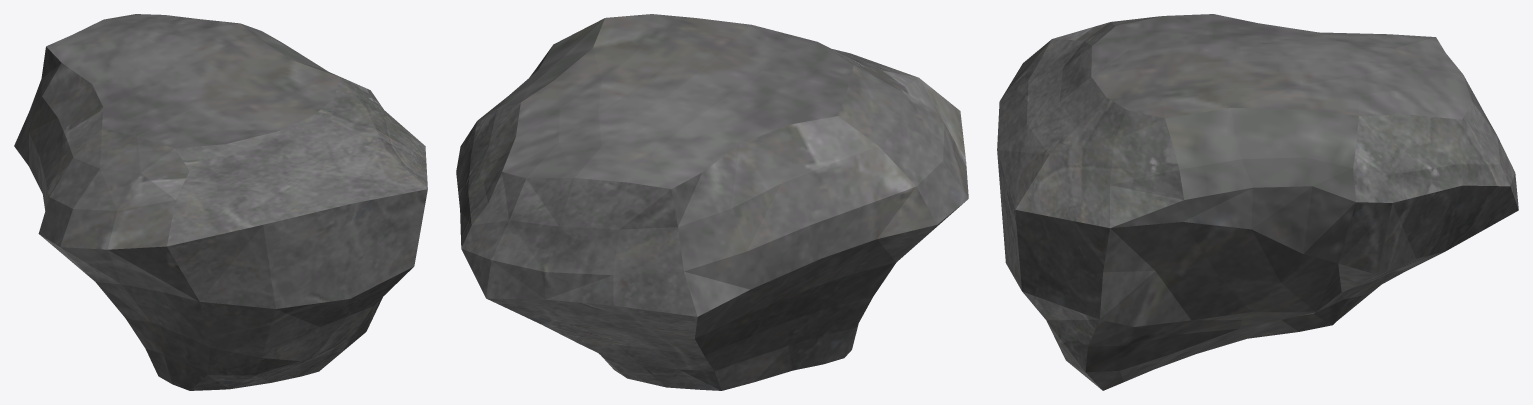
The model's file is Rock02.fbx.
The picture shows the model from 3 angles, left to right: view 1: azimuth 30°, elevation 25°; view 2: azimuth 150°, elevation 25°; view 3: azimuth 270°, elevation 25°; orthographic projection. The views are drawn at different scales.
Visible parts, largest first — view 1: SM_ENV_NATURE_Cave_Rock_M_03.mo; view 2: SM_ENV_NATURE_Cave_Rock_M_03.mo; view 3: SM_ENV_NATURE_Cave_Rock_M_03.mo.
Part boxes in pixels (x1,y1,x2,y2): SM_ENV_NATURE_Cave_Rock_M_03.mo: (14, 14, 427, 390); SM_ENV_NATURE_Cave_Rock_M_03.mo: (456, 14, 968, 390); SM_ENV_NATURE_Cave_Rock_M_03.mo: (997, 14, 1518, 390).
Size of the model in its own units: 172 by 123 by 193.
Materials: 1 (1 with a texture image).
